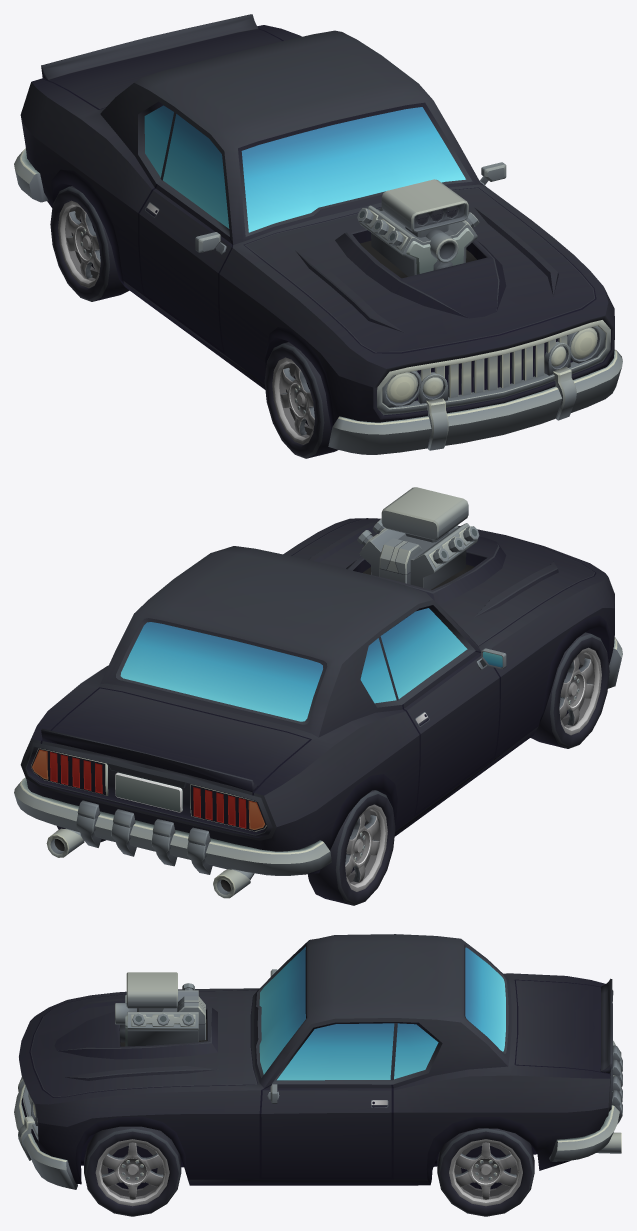
The model's file is car-1.glb.
The picture shows the model from 3 angles, top to bottom: view 1: azimuth 30°, elevation 25°; view 2: azimuth 150°, elevation 25°; view 3: azimuth 270°, elevation 25°; orthographic projection. The views are drawn at different scales.
Visible parts, largest first — view 1: Mister Beef_4; view 2: Mister Beef_4; view 3: Mister Beef_4.
Part boxes in pixels (box(x1,y1,x2,y2)): Mister Beef_4: box(14, 14, 622, 458); Mister Beef_4: box(14, 487, 622, 905); Mister Beef_4: box(14, 934, 622, 1216).
Bounding box in the file's own units: 2.38 × 1.7 × 4.94.
1 material, 1 textured.
